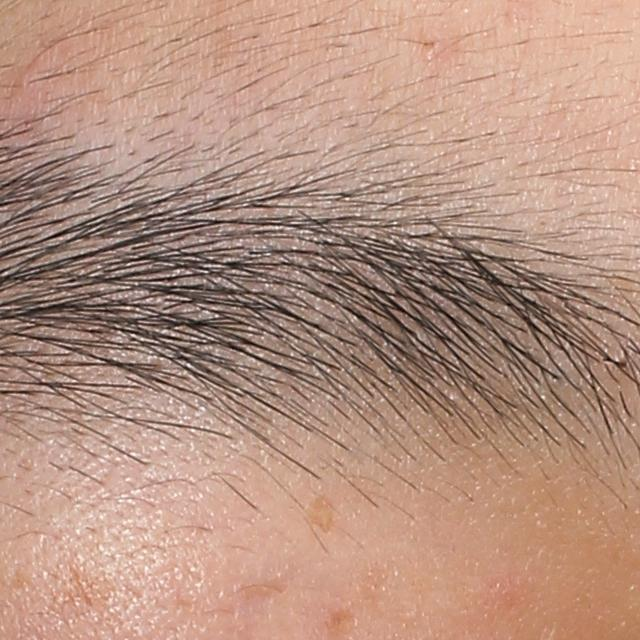melasma: (39, 563, 116, 617), (302, 491, 340, 537), (322, 606, 362, 638)
